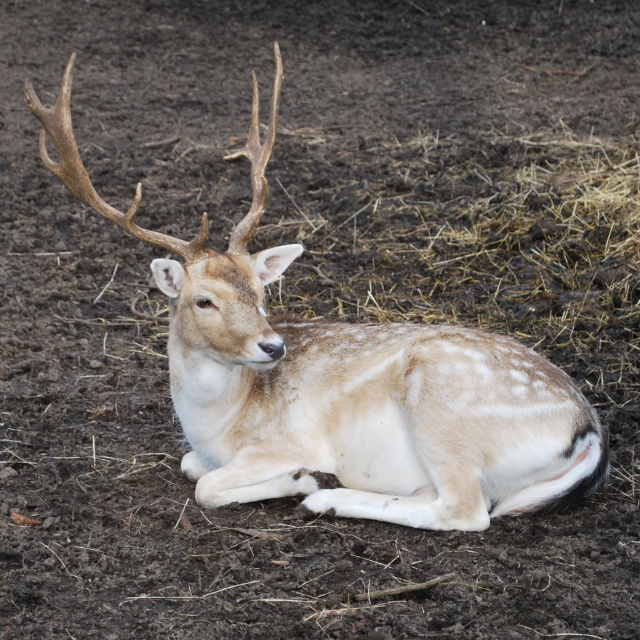Deer: (19, 40, 613, 532)
